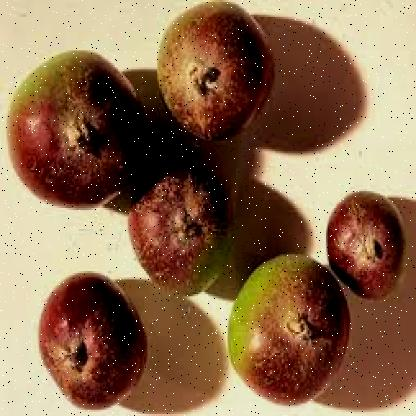damaged_apple: (6, 54, 142, 214), (223, 250, 352, 404), (158, 0, 278, 141), (35, 271, 152, 399), (120, 166, 230, 296), (324, 189, 408, 296)
